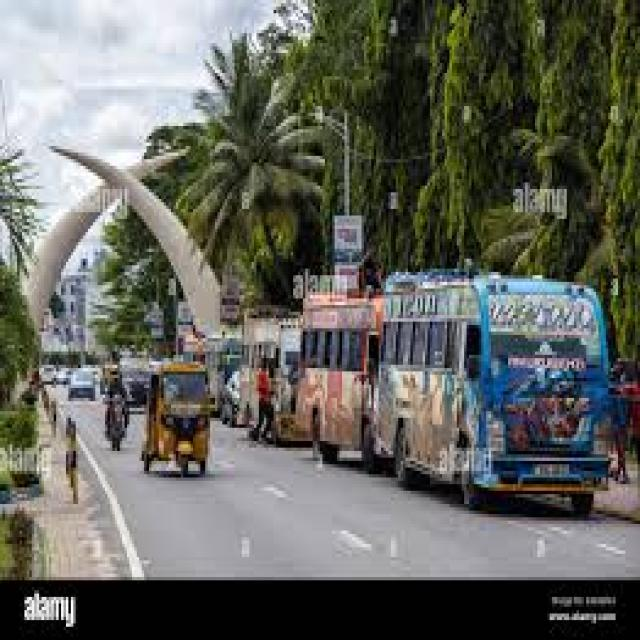bodaboda: (95, 383, 134, 448)
bus: (379, 267, 612, 518), (293, 269, 375, 494)
tuktuk: (141, 343, 217, 481)
